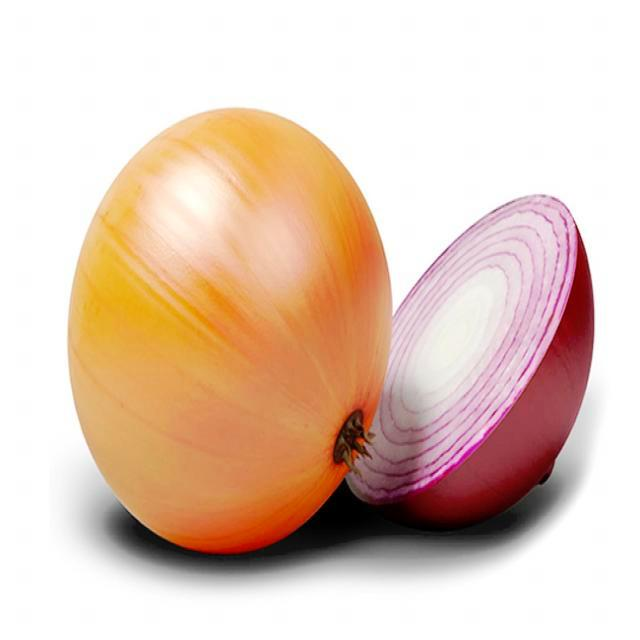onion: (70, 99, 383, 565), (344, 193, 597, 533)
